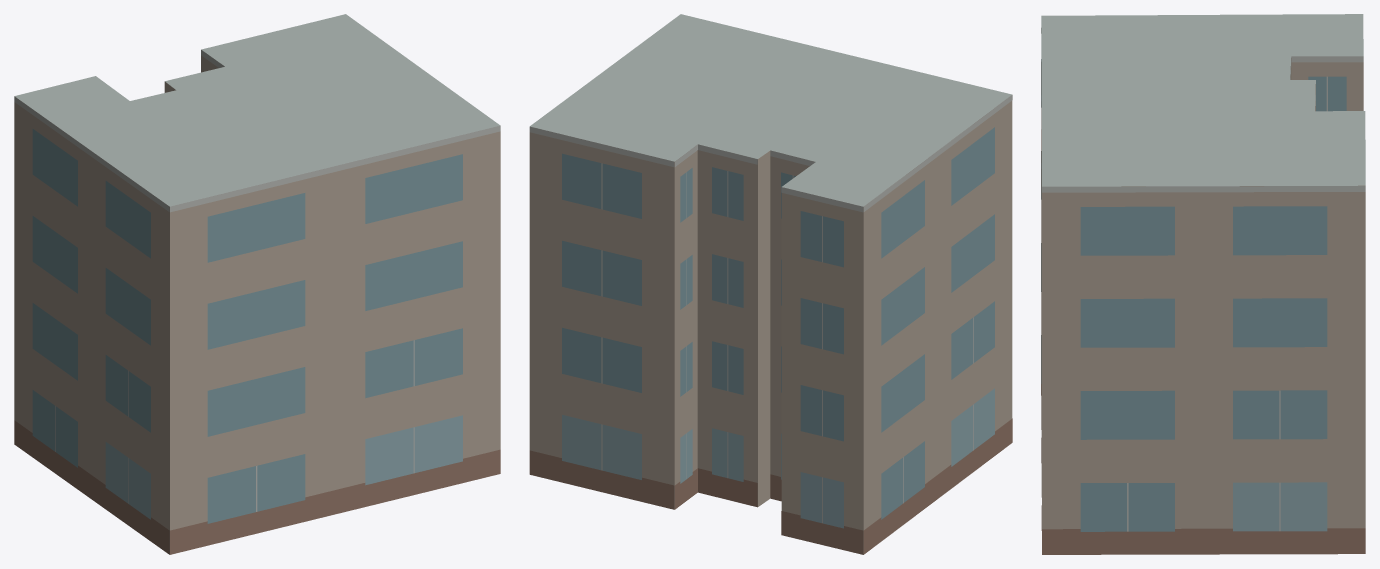
The model's file is survey-upis-32501767.glb.
3 views of the same model, side by side, from view 1: azimuth 30°, elevation 25°; view 2: azimuth 150°, elevation 25°; view 3: azimuth 270°, elevation 25° (orthographic). The views are drawn at different scales.
Parts seen in each view (by area): view 1: survey-upis-32501767.tmp; view 2: survey-upis-32501767.tmp; view 3: survey-upis-32501767.tmp.
Part boxes in pixels (x1,y1,x2,y2): survey-upis-32501767.tmp: (14, 14, 500, 554); survey-upis-32501767.tmp: (529, 14, 1012, 554); survey-upis-32501767.tmp: (1041, 14, 1365, 554).
Bounding box in the file's own units: 14.89 × 14.8 × 11.83.
